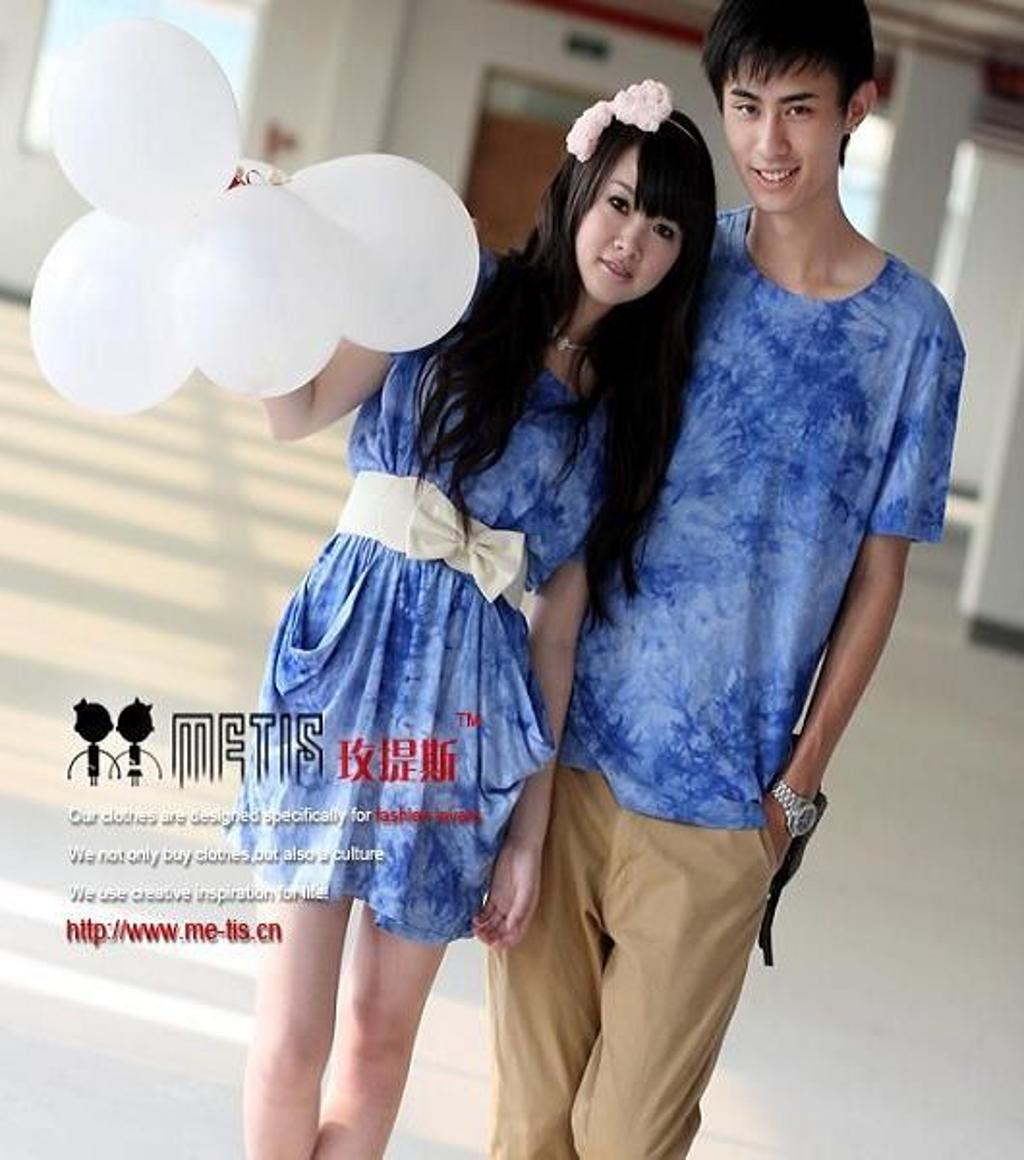face: (718, 45, 845, 213), (578, 134, 691, 306)
